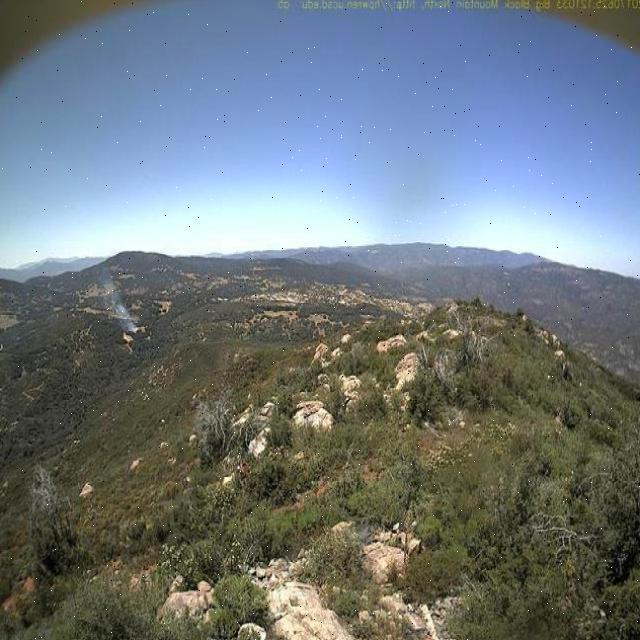smoke: (90, 265, 143, 337)
